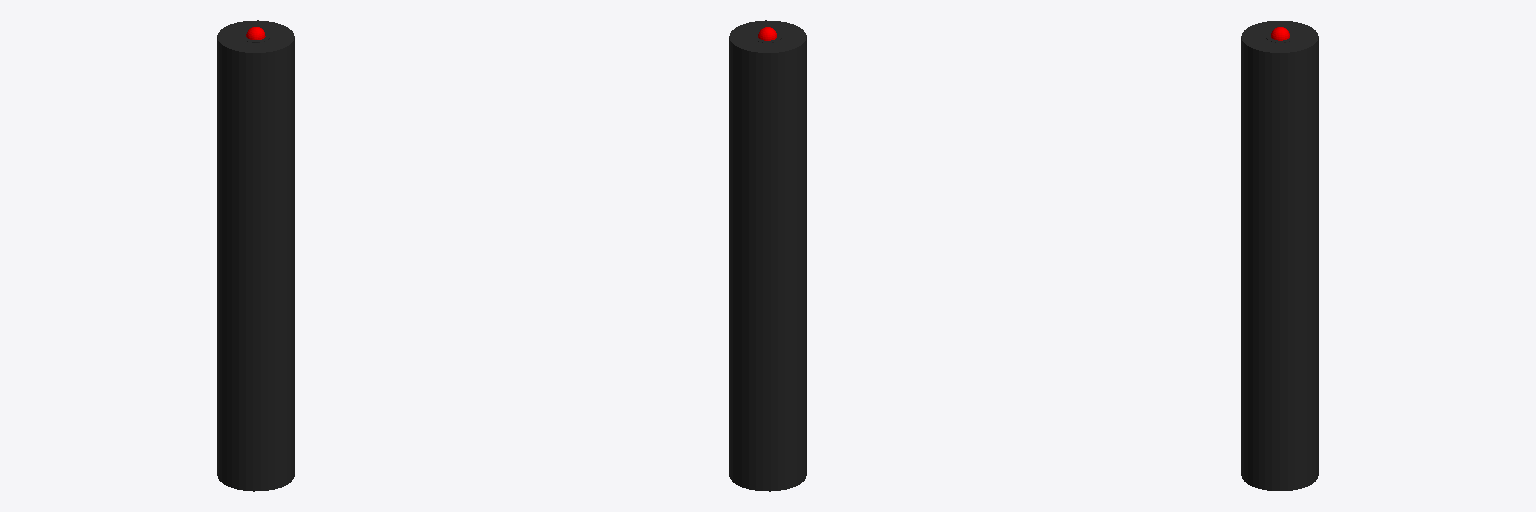
robot.urdf — my_robot:
<?xml version="1.0"?>
<robot name="my_robot">
  <mujoco >
    <compiler discardvisual="false"/>
  </mujoco>
  <link name="world"/>
  <joint name="world_to_base" type="fixed">
    <parent link="world"/>
    <child link="base_link"/>
    <origin xyz="0.0 0.0 1.0" rpy="0.0000 0.0000 0.0000"/>
  </joint>
  <link name="base_link">
    <visual >
      <origin xyz="0 0 -0.5" rpy="0 0 0"/>
      <geometry >
        <cylinder radius="0.0800" length="1.0"/>
      </geometry>
      <material name="base_grey">
        <color rgba="0.2 0.2 0.2 1.0"/>
      </material>
    </visual>
    <inertial >
      <origin xyz="0 0 0" rpy="0 0 0"/>
      <mass value="10.0"/>
      <inertia ixx="0.01" ixy="0" ixz="0" iyy="0.01" iyz="0" izz="0.01"/>
    </inertial>
  </link>
  <joint name="joint_0" type="revolute">
    <parent link="base_link"/>
    <child link="link_0"/>
    <origin xyz="0.0003 0.0005 0.0" rpy="0.0000 0.0000 0.0000"/>
    <axis xyz="0 0 1"/>
    <limit lower="-3.1416" upper="3.1416" effort="10" velocity="1"/>
  </joint>
  <link name="link_0">
    <visual >
      <origin xyz="0.0000 0.0003 0.0003" rpy="0.0000 0.0000 0.0000"/>
      <geometry >
        <cylinder radius="0.0300" length="0.0006"/>
      </geometry>
      <material name="mat_branch_0">
        <color rgba="0.2 0.2 0.2 1.0"/>
      </material>
    </visual>
    <inertial >
      <origin xyz="0 0 0" rpy="0 0 0"/>
      <mass value="1.0"/>
      <inertia ixx="0.01" ixy="0" ixz="0" iyy="0.01" iyz="0" izz="0.01"/>
    </inertial>
  </link>
  <joint name="joint_1" type="revolute">
    <parent link="link_0"/>
    <child link="link_1"/>
    <origin xyz="0.0 0.0005 0.0006" rpy="0.0000 0.0000 0.0000"/>
    <axis xyz="1 0 0"/>
    <limit lower="-3.1416" upper="3.1416" effort="10" velocity="1"/>
  </joint>
  <link name="link_1">
    <visual >
      <origin xyz="0 0 0" rpy="0 0 0"/>
      <geometry >
        <sphere radius="0.02"/>
      </geometry>
      <material name="end_effector_1">
        <color rgba="1.0 0.0 0.0 1.0"/>
      </material>
    </visual>
    <inertial >
      <origin xyz="0 0 0" rpy="0 0 0"/>
      <mass value="1.0"/>
      <inertia ixx="0.01" ixy="0" ixz="0" iyy="0.01" iyz="0" izz="0.01"/>
    </inertial>
  </link>
</robot>

--- What the picture shows (computed from the rendered views, not written in the file) ---
3 views of the same robot in one strip: view 1: azimuth 30°, elevation 25°; view 2: azimuth 150°, elevation 25°; view 3: azimuth 270°, elevation 25° (orthographic).
Robot: my_robot — 4 links, 3 joints (2 revolute, 1 fixed); root link world; default pose: all joints at 0.
Visible links, largest first — view 1: base_link; view 2: base_link; view 3: base_link.
Link boxes in pixels (<box>): base_link: <box>217,20,294,491</box>; base_link: <box>729,20,806,491</box>; base_link: <box>1241,21,1318,490</box>.
Bounding box of the posed robot: 0.16 × 0.16 × 1.02 m (x, y, z).
Geometry: primitives only (box / cylinder / sphere), no mesh files.
